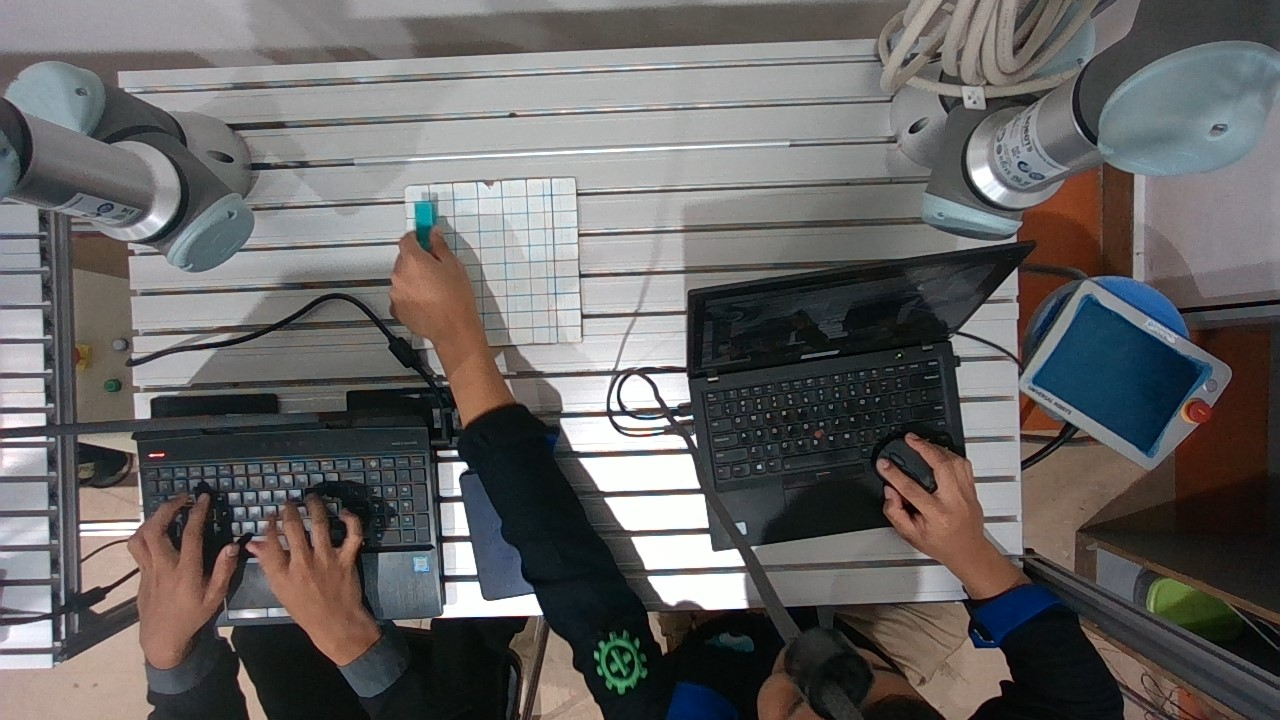box: (405, 185, 448, 261)
